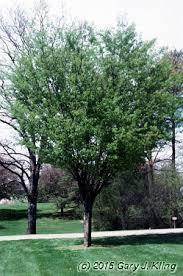tree: (5, 24, 176, 246)
